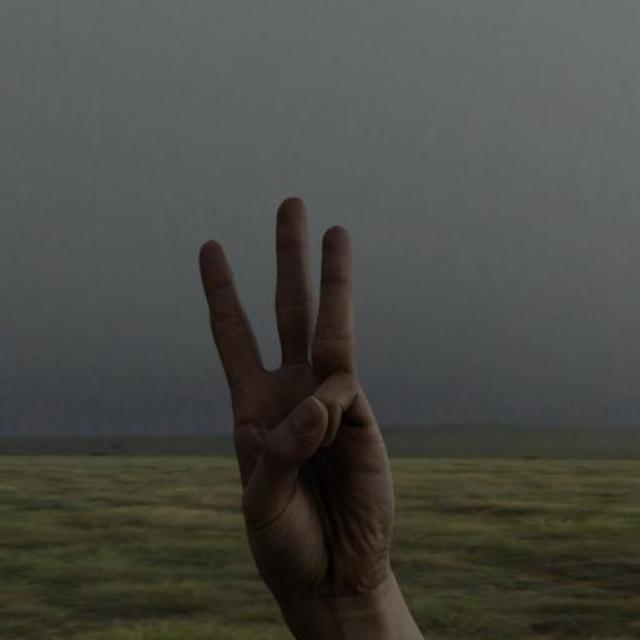W: (193, 193, 397, 622)
